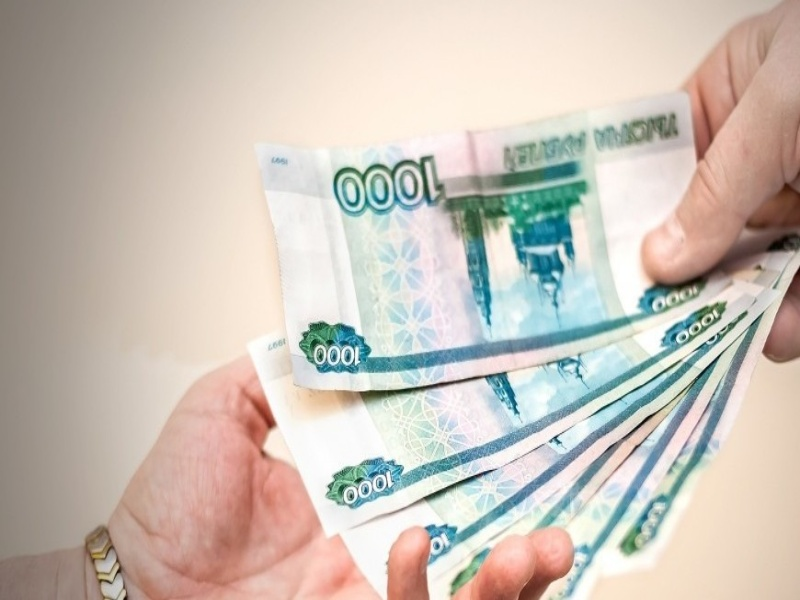cash: (247, 91, 800, 600)
